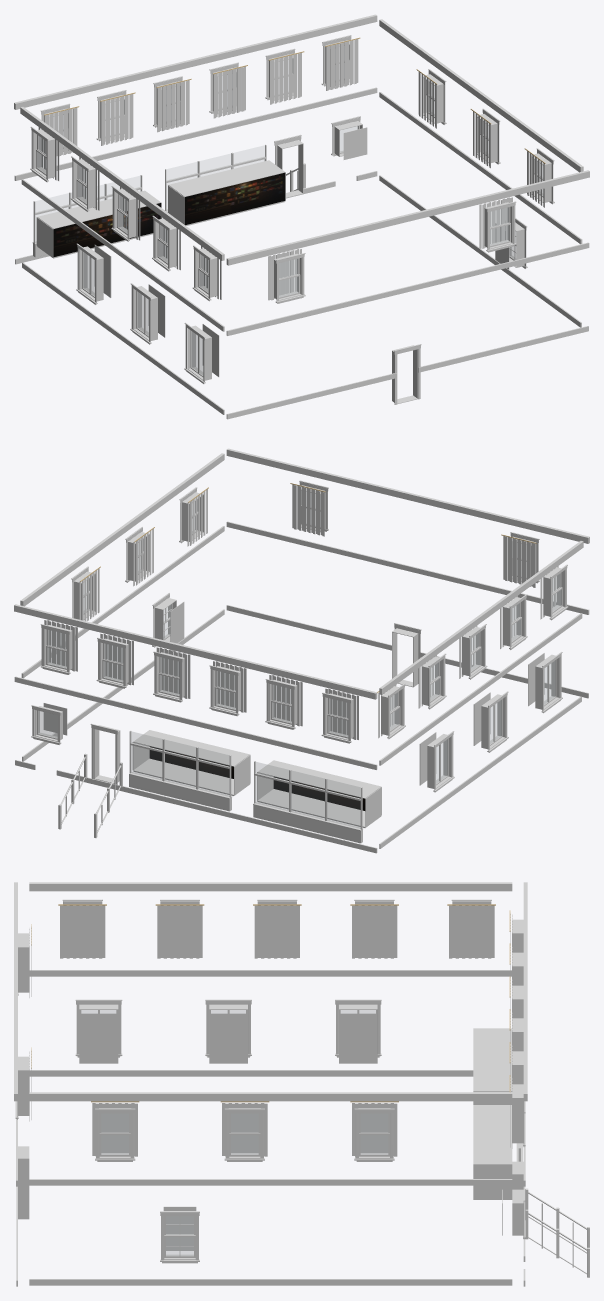
File: SM_Town_Laundromat_Trim.fbx
The picture shows the model from 3 angles, top to bottom: view 1: azimuth 30°, elevation 25°; view 2: azimuth 150°, elevation 25°; view 3: azimuth 270°, elevation 25°; orthographic projection. The views are drawn at different scales.
Visible parts, largest first — view 1: SM_Town_Laundromat_Trim_1; view 2: SM_Town_Laundromat_Trim_1; view 3: SM_Town_Laundromat_Trim_1.
Part boxes in pixels (<box>): SM_Town_Laundromat_Trim_1: <box>14,14,589,419</box>; SM_Town_Laundromat_Trim_1: <box>14,448,589,853</box>; SM_Town_Laundromat_Trim_1: <box>14,882,589,1286</box>.
Bounding box in the file's own units: 1544 × 765 × 1777.
